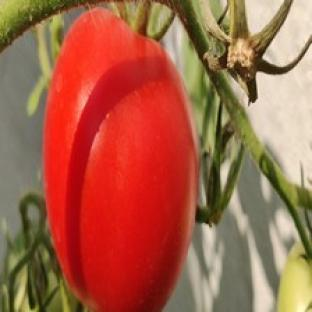Tomato: (44, 9, 197, 311), (278, 243, 311, 311)
